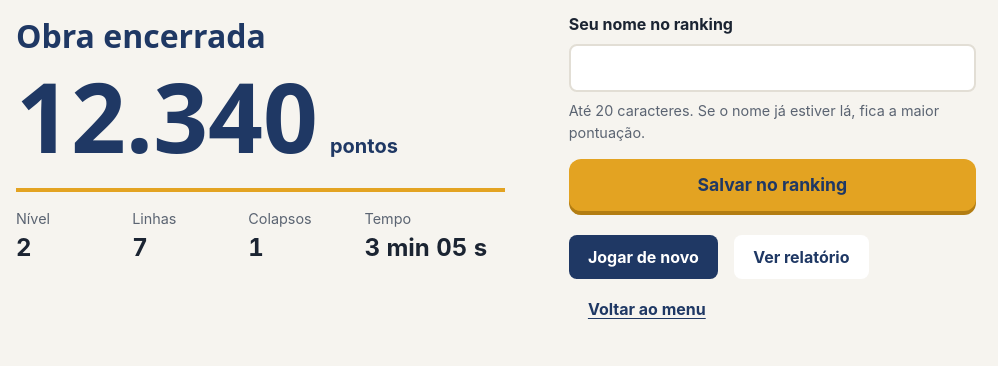
Test case: FimDePartida › erro do backend aparece como mensagem, e a tela continua
Type "Ana" into the field labelled "Seu nome no ranking" at (772, 68), box left=569, top=44, right=976, bottom=92
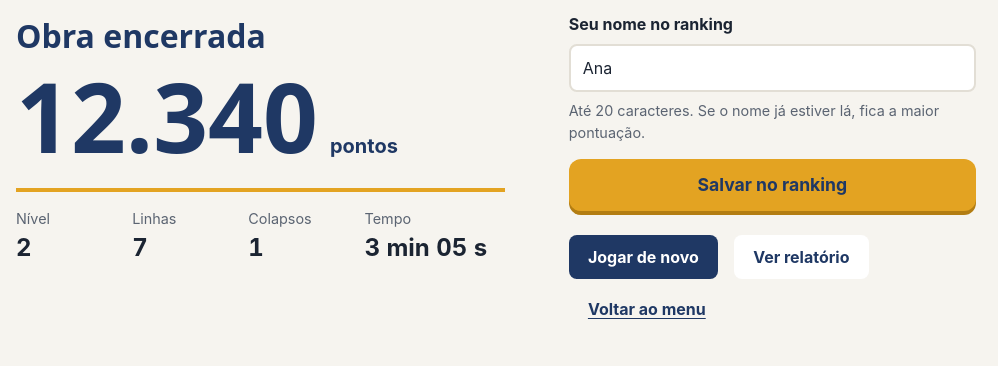
Click the button "Salvar no ranking" at (772, 185), box left=569, top=159, right=976, bottom=211
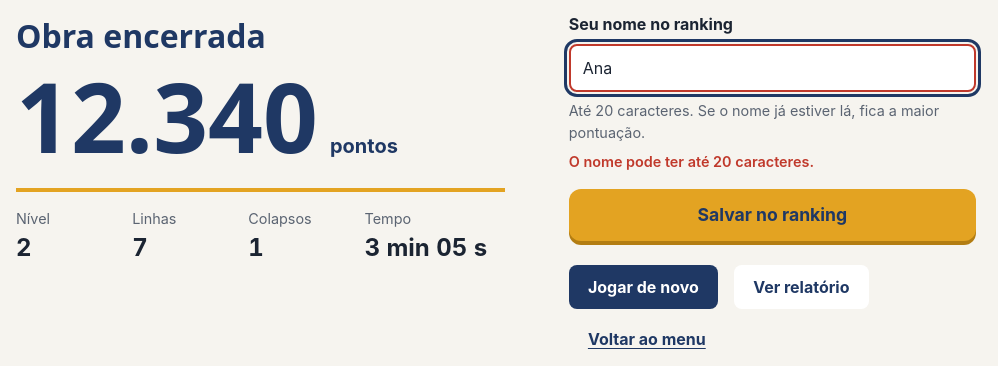
expect the button "Salvar no ranking" is enabled: met, box left=569, top=189, right=976, bottom=241
expect the message shows "até 20 caracteres": met, box left=569, top=153, right=814, bottom=170
